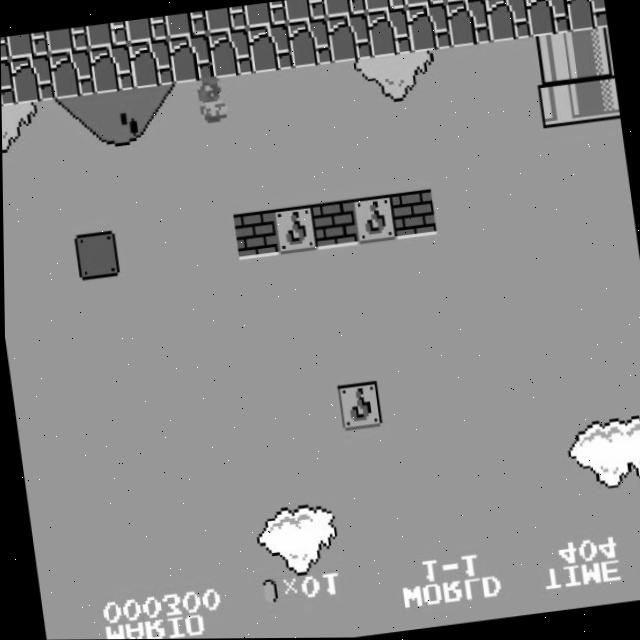1- brick_block: (231, 209, 278, 260), (310, 199, 357, 250), (390, 188, 436, 240)
11- little_mario: (185, 74, 235, 128)
13- mystery_block: (350, 194, 397, 245), (335, 381, 382, 431), (271, 204, 317, 255)
14- pipe: (530, 32, 577, 83), (571, 28, 613, 78)
15- pipe_head: (536, 78, 583, 129), (577, 73, 619, 123)
17- undestructible_block: (246, 22, 293, 74), (48, 48, 95, 99), (88, 43, 135, 94), (127, 38, 174, 89), (167, 33, 214, 84), (286, 18, 333, 69), (405, 2, 452, 53), (326, 12, 372, 64), (9, 53, 55, 104), (207, 28, 253, 79), (366, 7, 412, 58), (444, 0, 491, 48), (484, 0, 531, 43), (524, 0, 570, 38), (565, 0, 607, 33), (164, 10, 207, 39), (244, 0, 287, 29), (45, 26, 89, 54), (6, 31, 49, 59), (85, 21, 128, 49), (125, 16, 168, 44), (204, 6, 247, 34), (283, 0, 326, 23), (323, 0, 366, 18), (1, 58, 15, 109), (362, 0, 405, 13), (402, 0, 445, 8)
3- empty_block: (73, 229, 119, 281)
